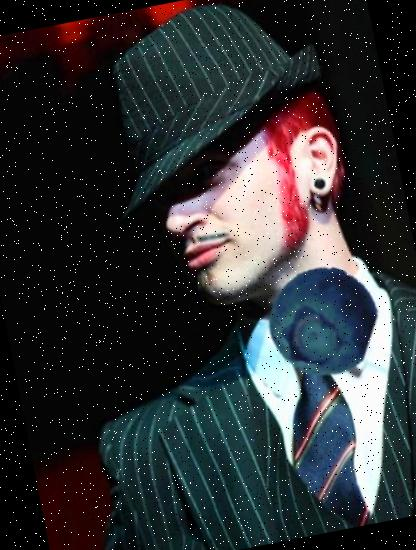Huckleberry: (258, 257, 386, 384)
